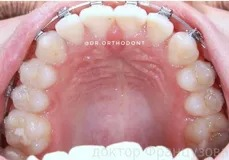UL1BC_healthy: (178, 60, 215, 91)
UL1M_decay: (187, 114, 228, 148)
UL2BC_healthy: (186, 89, 223, 115)
ULCI_healthy: (116, 6, 147, 33)
ULC_healthy: (168, 39, 199, 67)
ULLI_healthy: (146, 14, 173, 44)
UR1BC_healthy: (21, 59, 56, 88)
UR1M_healthy: (6, 112, 49, 154)
UR2BC_healthy: (13, 85, 49, 112)
URCI_healthy: (81, 6, 114, 37)
URC_healthy: (40, 32, 67, 65)
URLI_healthy: (56, 17, 83, 44)
